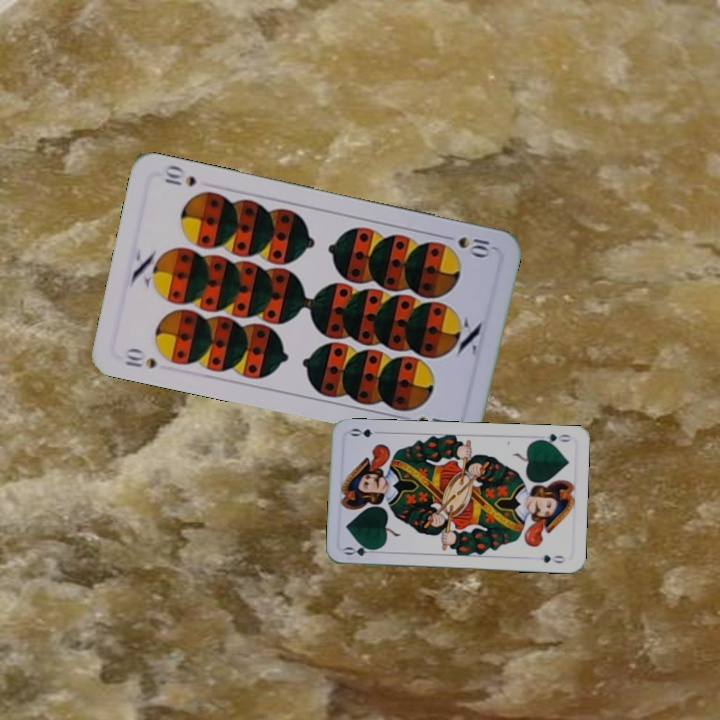GO: (533, 430, 573, 448), (341, 543, 381, 558)
S10: (438, 230, 496, 259), (120, 344, 159, 371)
